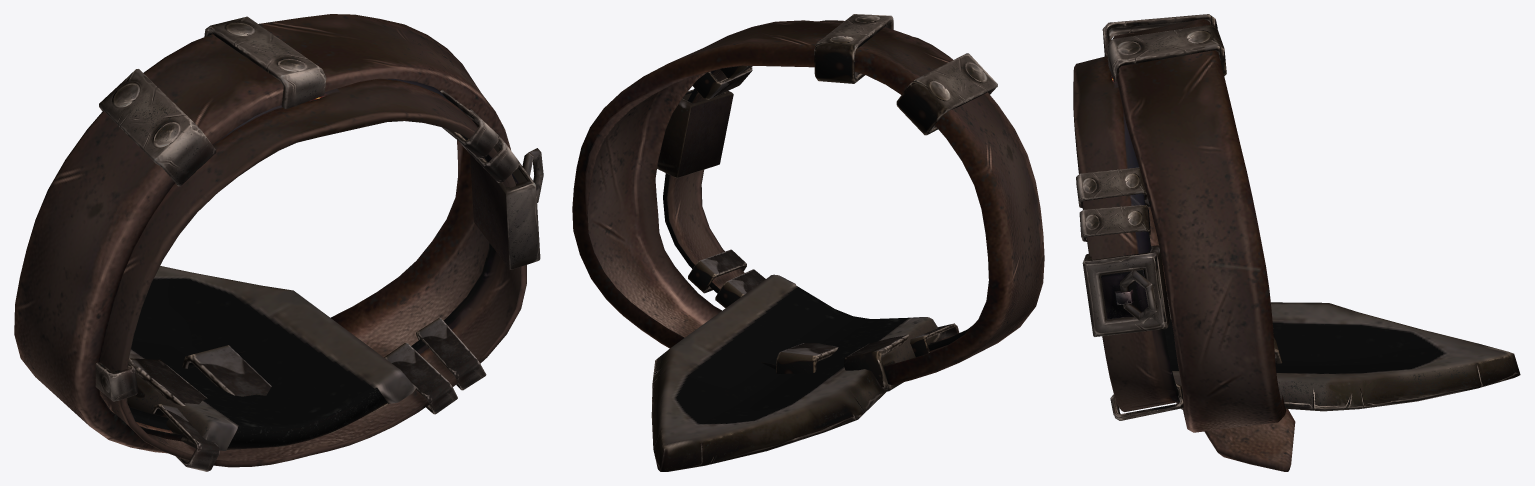
The model's file is sm_human_scortched_belt.gltf.
The picture shows the model from 3 angles, left to right: view 1: azimuth 30°, elevation 25°; view 2: azimuth 150°, elevation 25°; view 3: azimuth 270°, elevation 25°; orthographic projection. The views are drawn at different scales.
Visible parts, largest first — view 1: sm_human_scortched_belt; view 2: sm_human_scortched_belt; view 3: sm_human_scortched_belt.
Boxes of the visible parts, bbox=[...] form: sm_human_scortched_belt: bbox=[14, 14, 543, 471]; sm_human_scortched_belt: bbox=[572, 14, 1044, 471]; sm_human_scortched_belt: bbox=[1073, 14, 1520, 471].
Size of the model in its own units: 42.83 by 36.63 by 39.56.
1 material, 1 textured.
